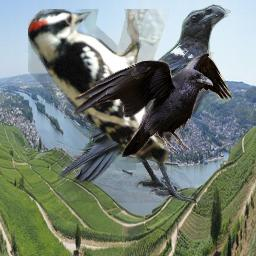Crow: (57, 3, 231, 203), (72, 52, 233, 157)
Woodpecker: (28, 9, 169, 163)
